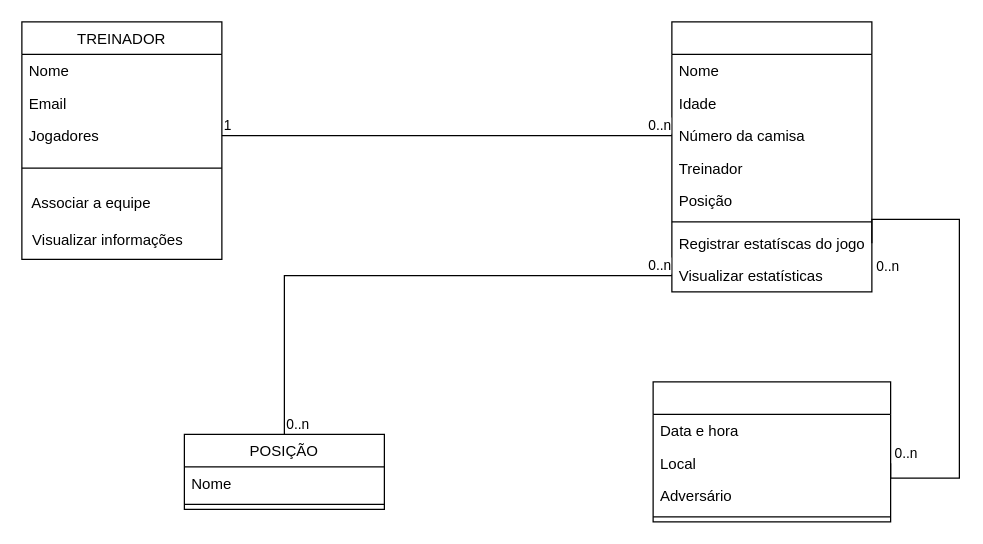
Some shapes in this 983 by 544 pixel diagram are drawn without their labels. The box of each missing label's shape, as (x1, y1, x2, y2) in pixels:
JOGADOR: (671, 21, 872, 292)
PARTIDA: (652, 381, 891, 522)
